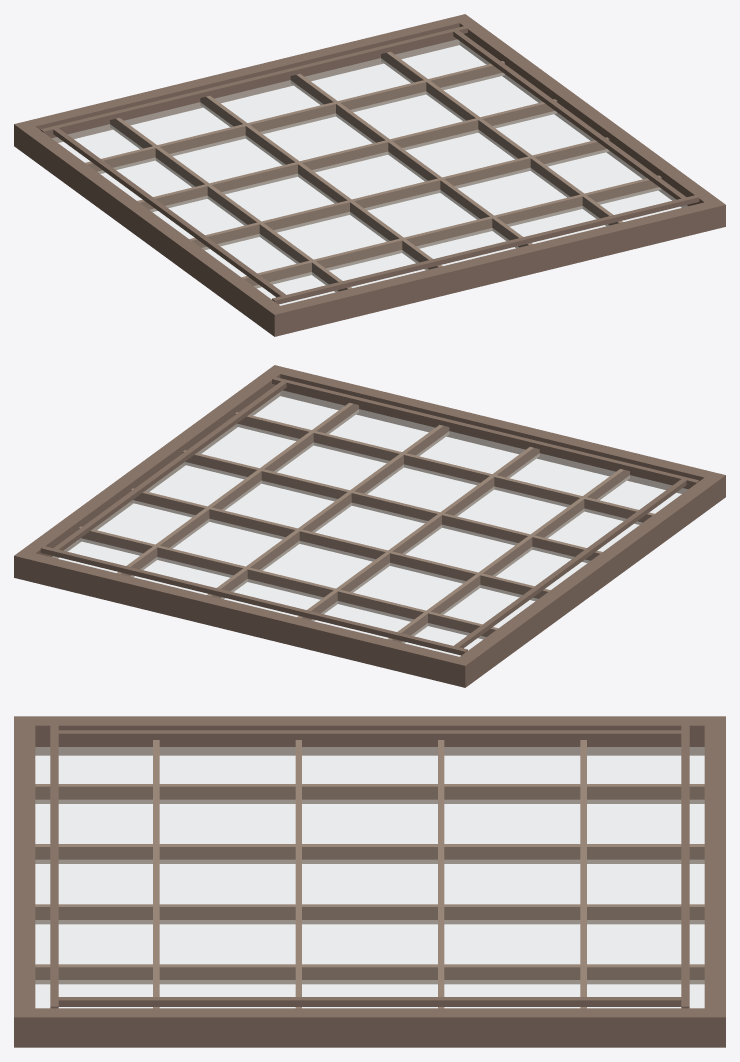
File: skylight.glb
3 views of the same model, one above another, from view 1: azimuth 30°, elevation 25°; view 2: azimuth 150°, elevation 25°; view 3: azimuth 270°, elevation 25° (orthographic). The views are drawn at different scales.
Visible parts, largest first — view 1: frosted-glass, outer-frame-south, outer-frame-north, outer-frame-west, outer-frame-east, cross-beam-z-4, cross-beam-z-2, cross-beam-z-1, cross-beam-z-3, recessed-inner-frame-south, recessed-inner-frame-north, cross-beam-x-4 (+5 smaller); view 2: frosted-glass, outer-frame-north, outer-frame-south, outer-frame-west, outer-frame-east, cross-beam-z-1, cross-beam-z-3, cross-beam-z-4, cross-beam-z-2, recessed-inner-frame-north, recessed-inner-frame-south, cross-beam-x-4 (+5 smaller); view 3: frosted-glass, outer-frame-east, outer-frame-west, cross-beam-x-3, cross-beam-x-4, cross-beam-x-1, cross-beam-x-2, outer-frame-north, outer-frame-south, recessed-inner-frame-east, recessed-inner-frame-west, recessed-inner-frame-north (+5 smaller).
Part boxes in pixels (x1=…): frosted-glass: x1=52, y1=39, x2=687, y2=305; outer-frame-south: x1=266, y1=199, x2=725, y2=336; outer-frame-north: x1=14, y1=14, x2=472, y2=151; outer-frame-west: x1=21, y1=126, x2=279, y2=330; outer-frame-east: x1=459, y1=20, x2=717, y2=207; cross-beam-z-4: x1=242, y1=175, x2=661, y2=288; cross-beam-z-2: x1=137, y1=99, x2=557, y2=211; cross-beam-z-1: x1=85, y1=61, x2=504, y2=173; cross-beam-z-3: x1=189, y1=137, x2=609, y2=249; recessed-inner-frame-south: x1=272, y1=195, x2=699, y2=304; recessed-inner-frame-north: x1=40, y1=26, x2=467, y2=135; cross-beam-x-4: x1=381, y1=51, x2=623, y2=225; frosted-glass: x1=52, y1=390, x2=687, y2=656; outer-frame-north: x1=14, y1=550, x2=473, y2=687; outer-frame-south: x1=267, y1=365, x2=725, y2=502; outer-frame-west: x1=460, y1=477, x2=718, y2=681; outer-frame-east: x1=22, y1=371, x2=280, y2=558; cross-beam-z-1: x1=78, y1=526, x2=497, y2=639; cross-beam-z-3: x1=182, y1=450, x2=602, y2=562; cross-beam-z-4: x1=235, y1=412, x2=654, y2=524; cross-beam-z-2: x1=130, y1=488, x2=550, y2=600; recessed-inner-frame-north: x1=40, y1=546, x2=467, y2=655; recessed-inner-frame-south: x1=272, y1=377, x2=699, y2=486; cross-beam-x-4: x1=116, y1=402, x2=358, y2=576; frosted-glass: x1=35, y1=747, x2=704, y2=1007; outer-frame-east: x1=35, y1=1008, x2=704, y2=1047; outer-frame-west: x1=35, y1=716, x2=704, y2=755; cross-beam-x-3: x1=35, y1=904, x2=704, y2=924; cross-beam-x-4: x1=35, y1=964, x2=704, y2=984; cross-beam-x-1: x1=35, y1=784, x2=704, y2=803; cross-beam-x-2: x1=35, y1=844, x2=704, y2=863; outer-frame-north: x1=704, y1=716, x2=725, y2=1047; outer-frame-south: x1=14, y1=716, x2=35, y2=1047; recessed-inner-frame-east: x1=57, y1=997, x2=683, y2=1006; recessed-inner-frame-west: x1=57, y1=730, x2=682, y2=739; recessed-inner-frame-north: x1=681, y1=724, x2=689, y2=1008.
Size of the model in its own units: 6 by 0.295 by 6.
